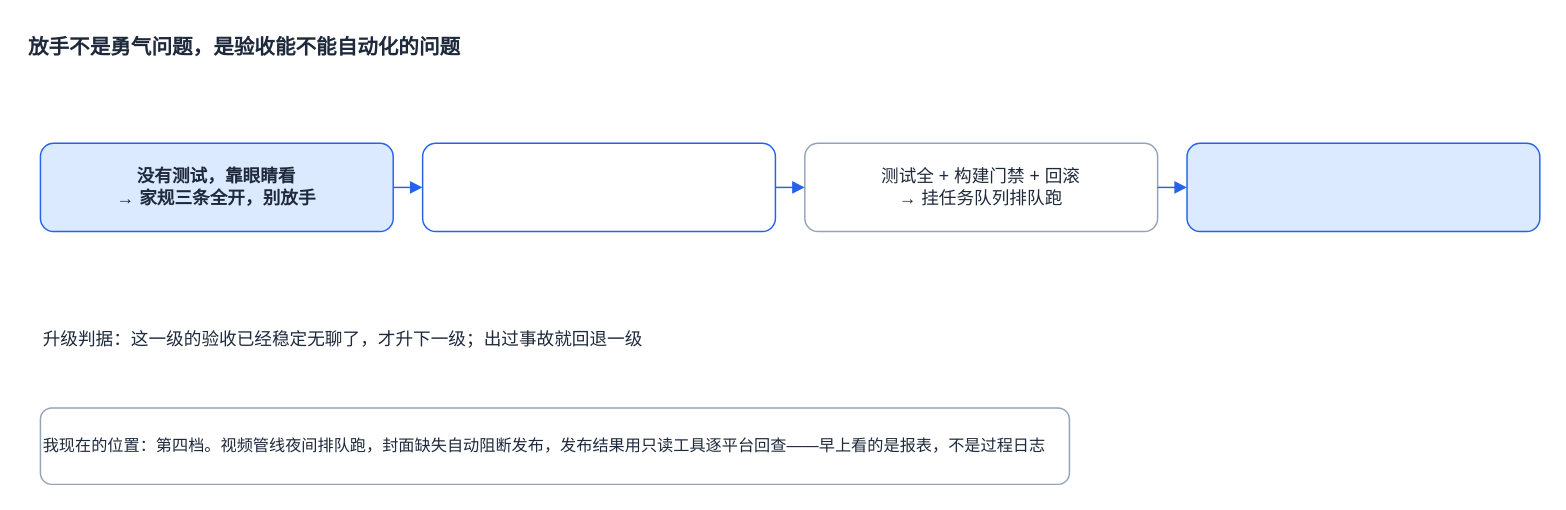
Some shapes in this 1566 by 510 pixel diagram are drawn without their labels. Each missing label, with the box of its shape:
上面都有，还跑过一段无事故 → 定时自治，只看报表: (1186, 142, 1540, 232)
有测试，盖住核心路径 → 整段整段写，人审接口: (421, 142, 775, 232)
